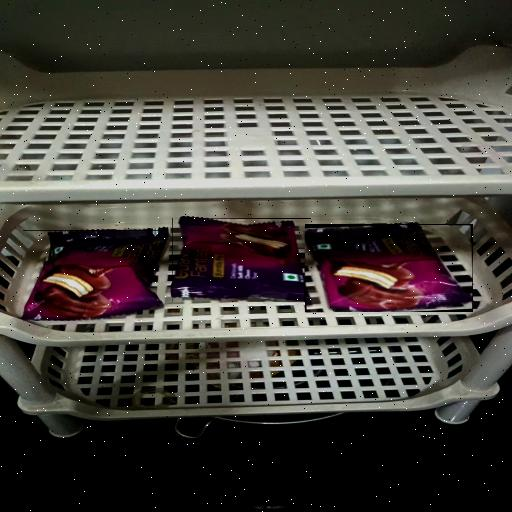Choco Pie: (305, 224, 473, 312), (23, 230, 167, 321), (172, 218, 311, 302)
